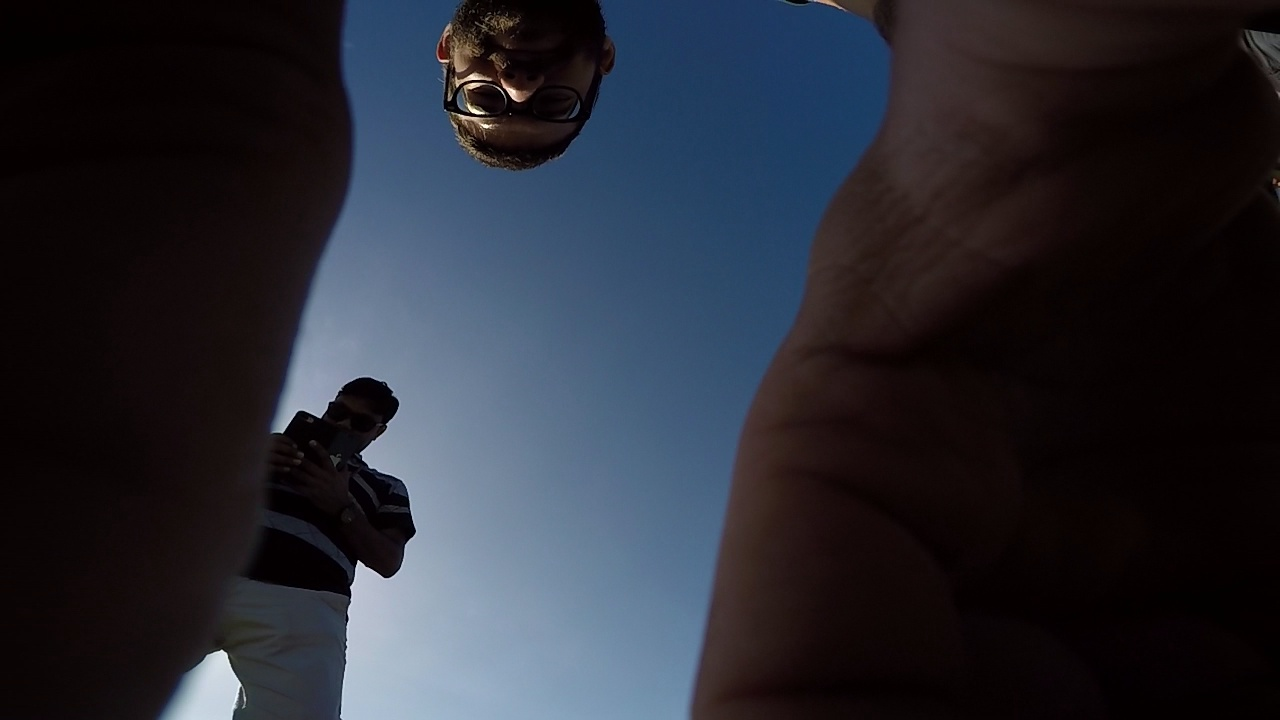person: (220, 0, 1216, 672), (4, 0, 1093, 535), (702, 12, 1280, 715), (0, 22, 367, 720), (70, 302, 393, 699), (203, 367, 411, 710), (418, 3, 609, 165)
